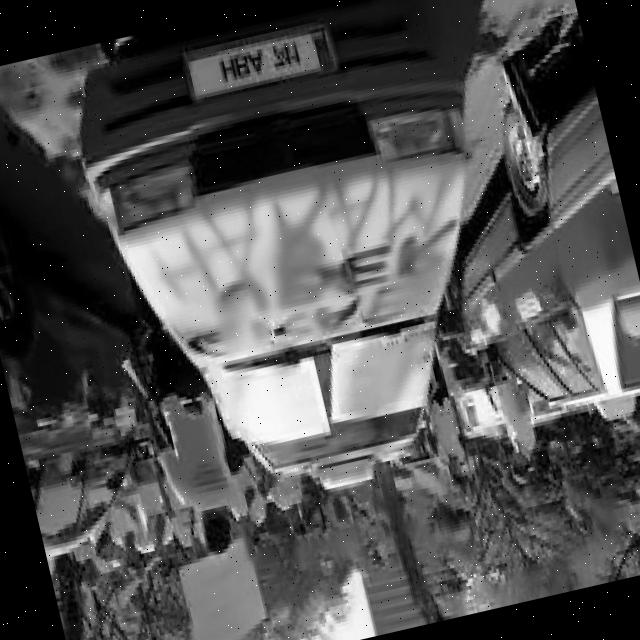License_Plate: (182, 21, 336, 104)
car: (40, 1, 532, 546)
